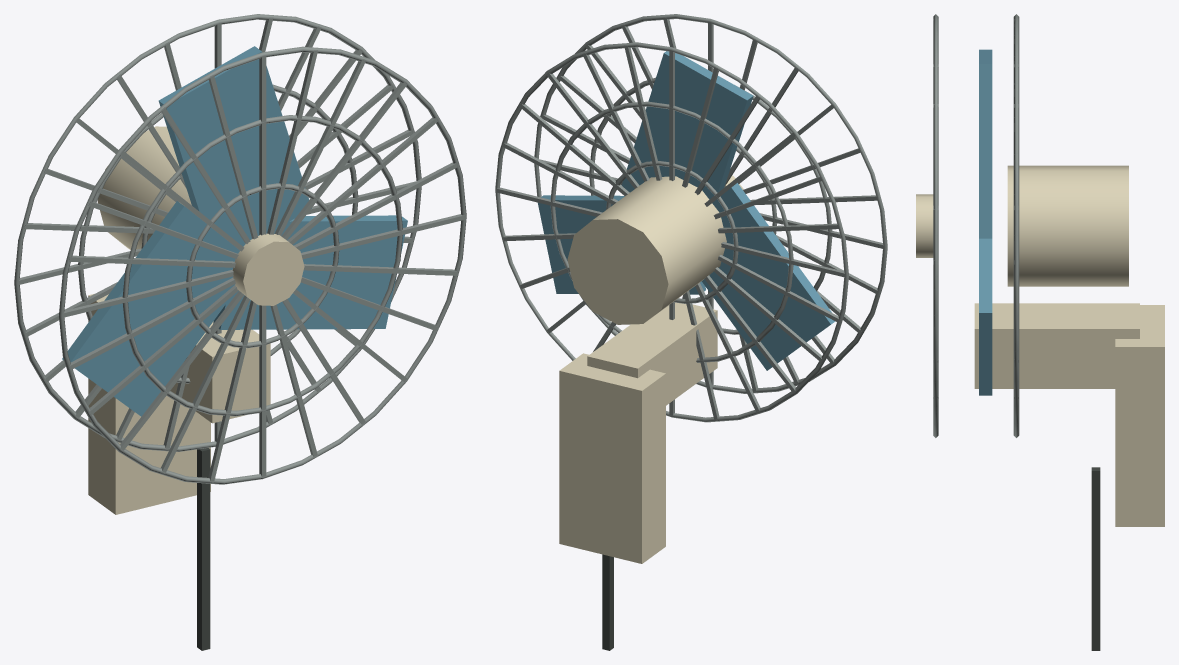
File: wallFan.glb
3 views of the same model, side by side, from view 1: azimuth 30°, elevation 25°; view 2: azimuth 150°, elevation 25°; view 3: azimuth 270°, elevation 25° (orthographic). The views are drawn at different scales.
Visible parts, largest first — view 1: guard-spoke (×21), blade (×3), guard-ring (×5), mount, motor, arm, front-cap, pull-switch; view 2: guard-spoke (×20), blade (×3), mount, motor, guard-ring (×5), arm, pull-switch; view 3: motor, arm, mount, guard-ring (×2), blade (×2), pull-switch, front-cap.
Part boxes in pixels (x1,y1,x2,y2): guard-spoke (×21): (18, 17, 464, 482); blade (×3): (62, 46, 407, 416); guard-ring (×5): (14, 14, 466, 484); mount: (88, 293, 210, 514); motor: (97, 126, 191, 249); arm: (170, 321, 270, 423); front-cap: (232, 233, 304, 305); pull-switch: (197, 448, 210, 650); guard-spoke (×20): (497, 24, 883, 420); blade (×3): (538, 51, 834, 370); mount: (559, 353, 665, 563); motor: (567, 176, 726, 324); guard-ring (×5): (495, 14, 887, 422); arm: (587, 302, 717, 405); pull-switch: (602, 554, 613, 650); motor: (1007, 165, 1128, 286); arm: (974, 303, 1139, 388); mount: (1115, 305, 1164, 526); guard-ring (×2): (933, 14, 1019, 437); blade (×2): (979, 49, 992, 395); pull-switch: (1091, 467, 1100, 650); front-cap: (916, 194, 933, 257).
Size of the model in its own units: 0.385 by 0.6025 by 0.2255.
